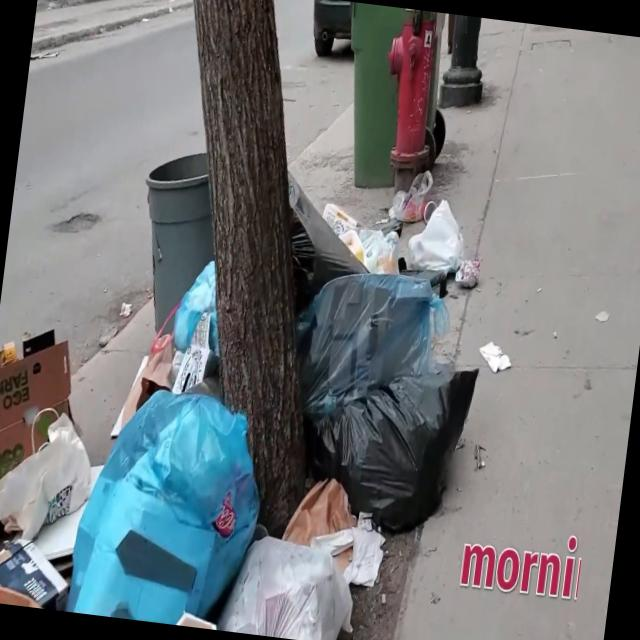high trash: (0, 172, 478, 640)
less trash: (480, 341, 510, 373), (98, 324, 117, 347), (120, 303, 131, 316)
